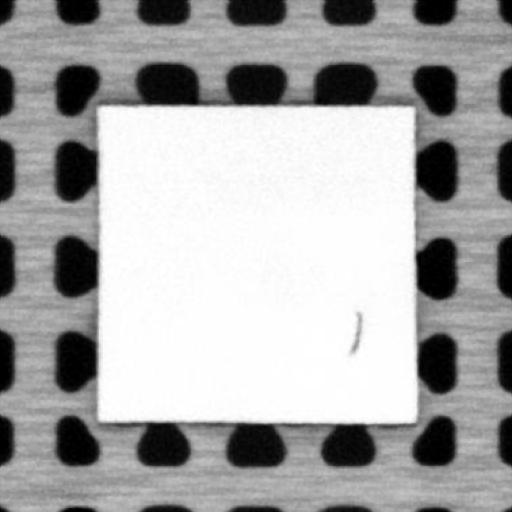DIE_INK: (344, 311, 364, 355)
